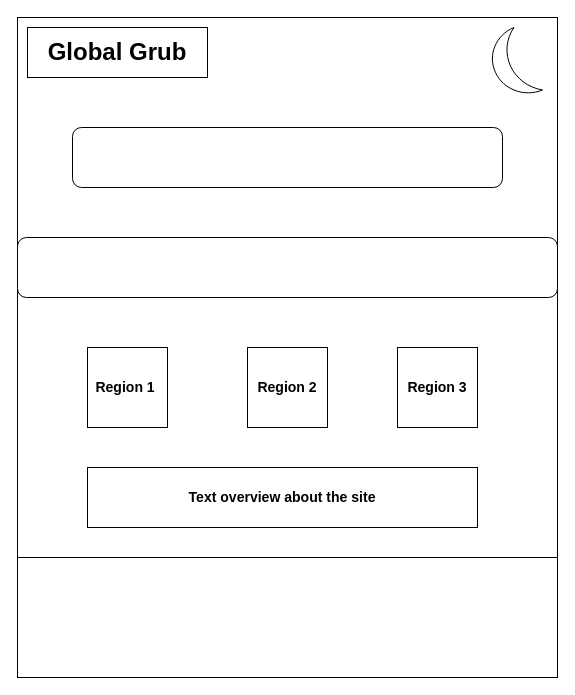
The diagram is 575 pixels wide and 695 high, and some of its shapes have lost their labels. The box of each missing label's shape, as (x1, y1, x2, y2) in pixels:
Footer: (16, 556, 558, 678)
Image marqee: (16, 236, 558, 298)
NAVBAR: (72, 126, 502, 188)
